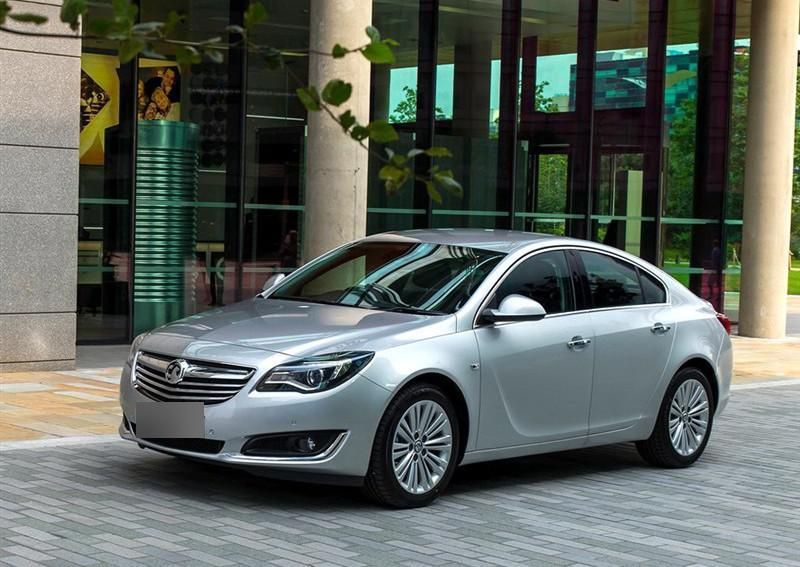Wagon: (119, 227, 734, 510)
